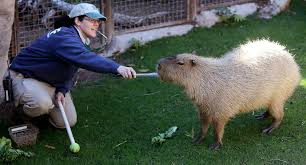capivara: (156, 38, 303, 148)
